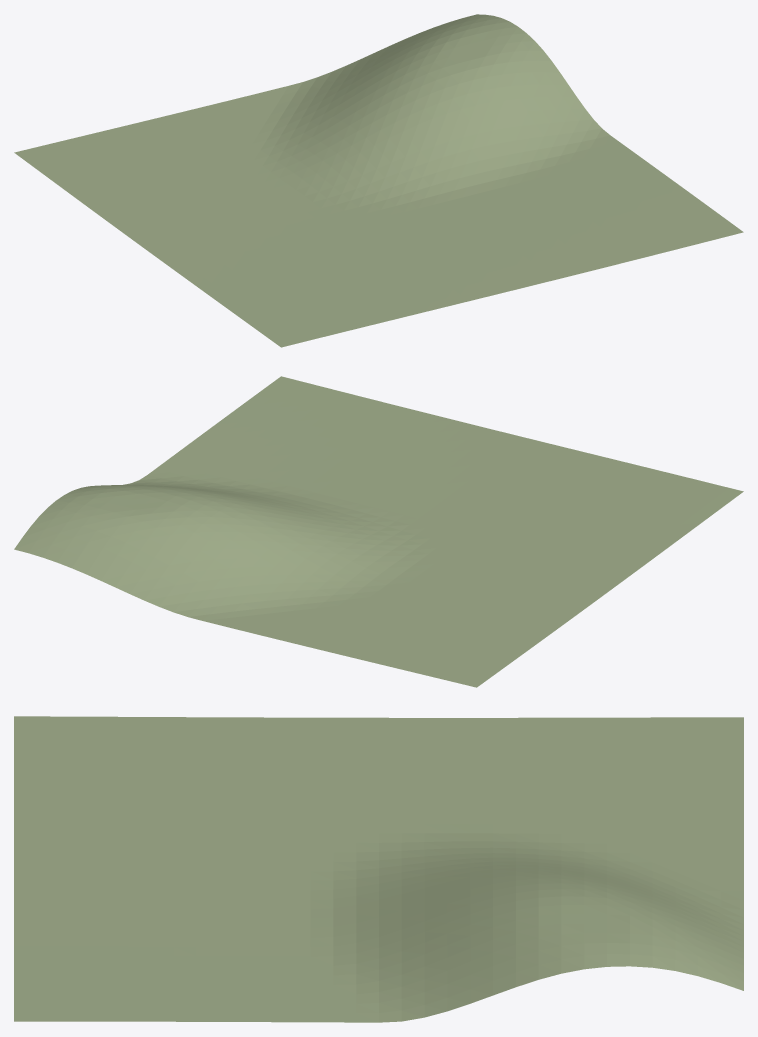
Rendered from desert-13-12.glb.
3 views of the same model, one above another, from view 1: azimuth 30°, elevation 25°; view 2: azimuth 150°, elevation 25°; view 3: azimuth 270°, elevation 25° (orthographic). The views are drawn at different scales.
Parts seen in each view (by area): view 1: desert-13-12; view 2: desert-13-12; view 3: desert-13-12.
Part boxes in pixels (x1,y1,x2,y2): desert-13-12: (14, 14, 743, 347); desert-13-12: (14, 376, 743, 687); desert-13-12: (14, 716, 743, 1022).
Bounding box in the file's own units: 512 × 49.79 × 512.
